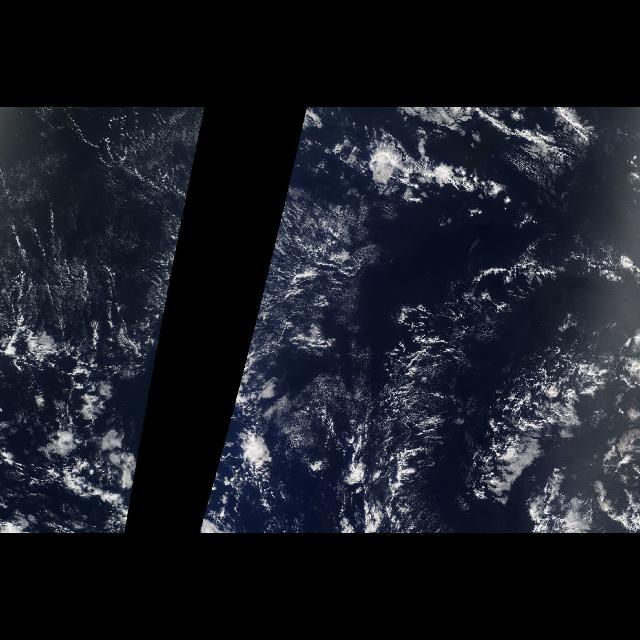Fish: (340, 223, 640, 533)
Sugar: (0, 108, 186, 368), (250, 202, 382, 342)
